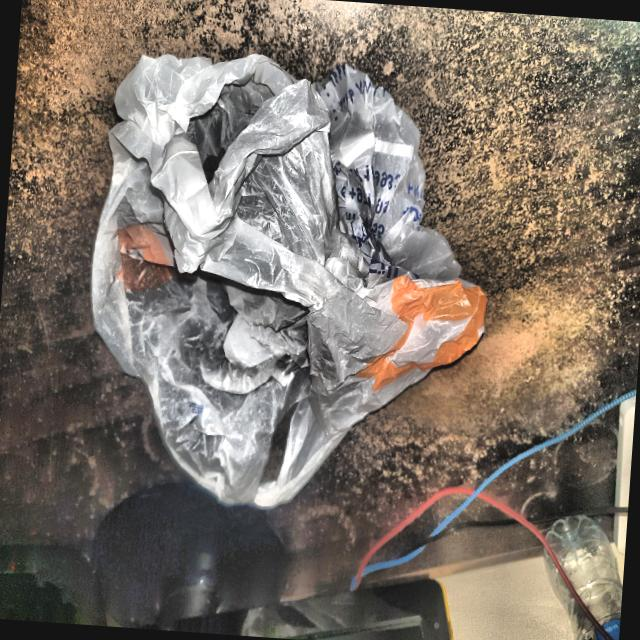plastic bag: (67, 31, 510, 536)
